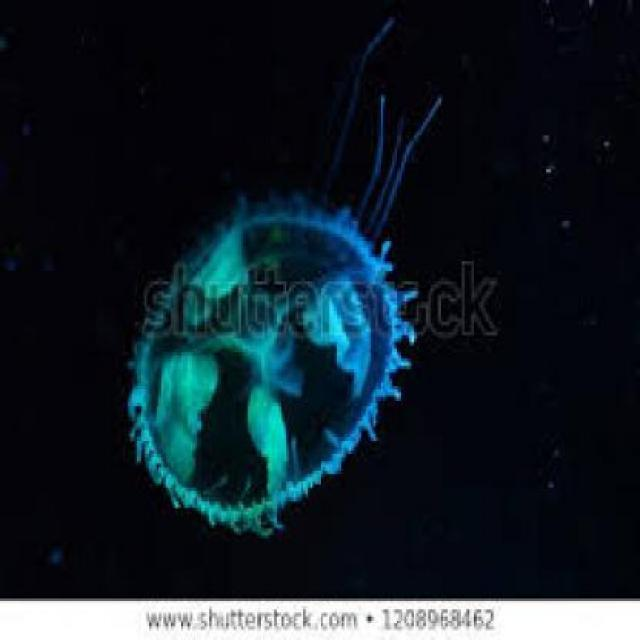Jellyfish: (118, 78, 446, 540)
